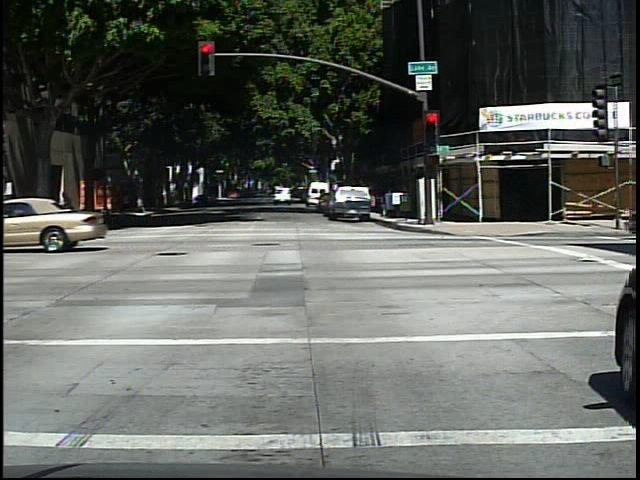person: (51, 186, 80, 239)
